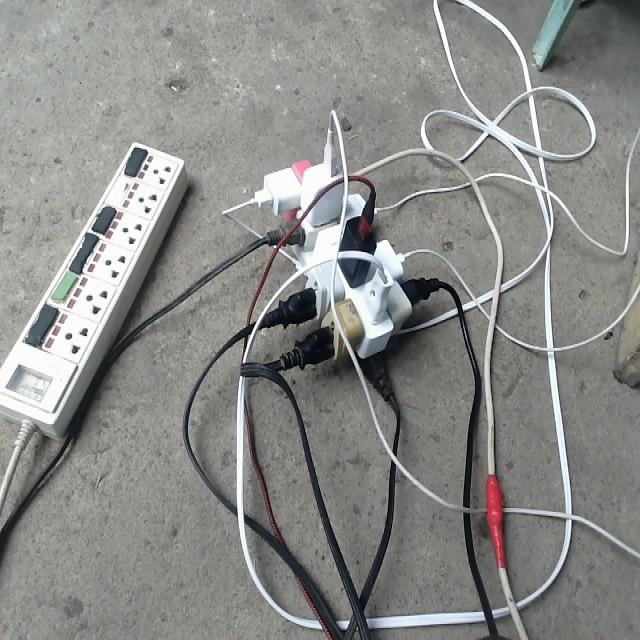-: (251, 122, 439, 402)
